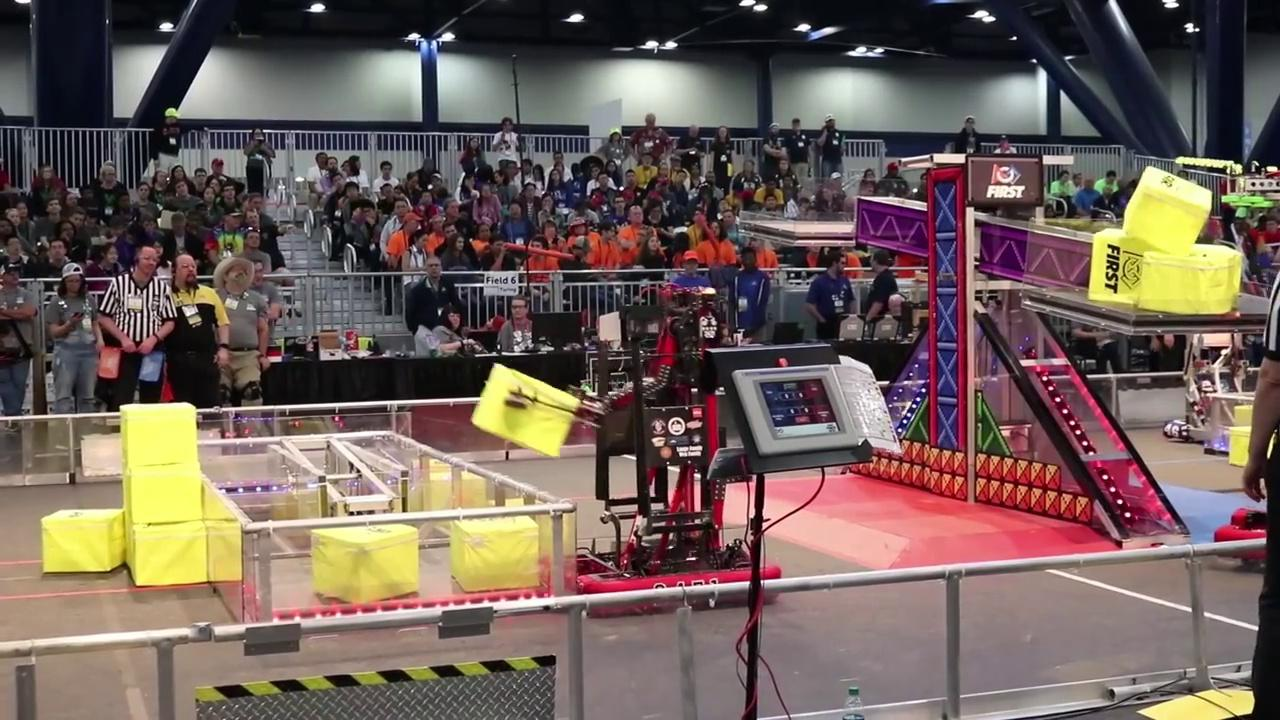robot: (558, 298, 784, 615), (1166, 334, 1252, 446)
